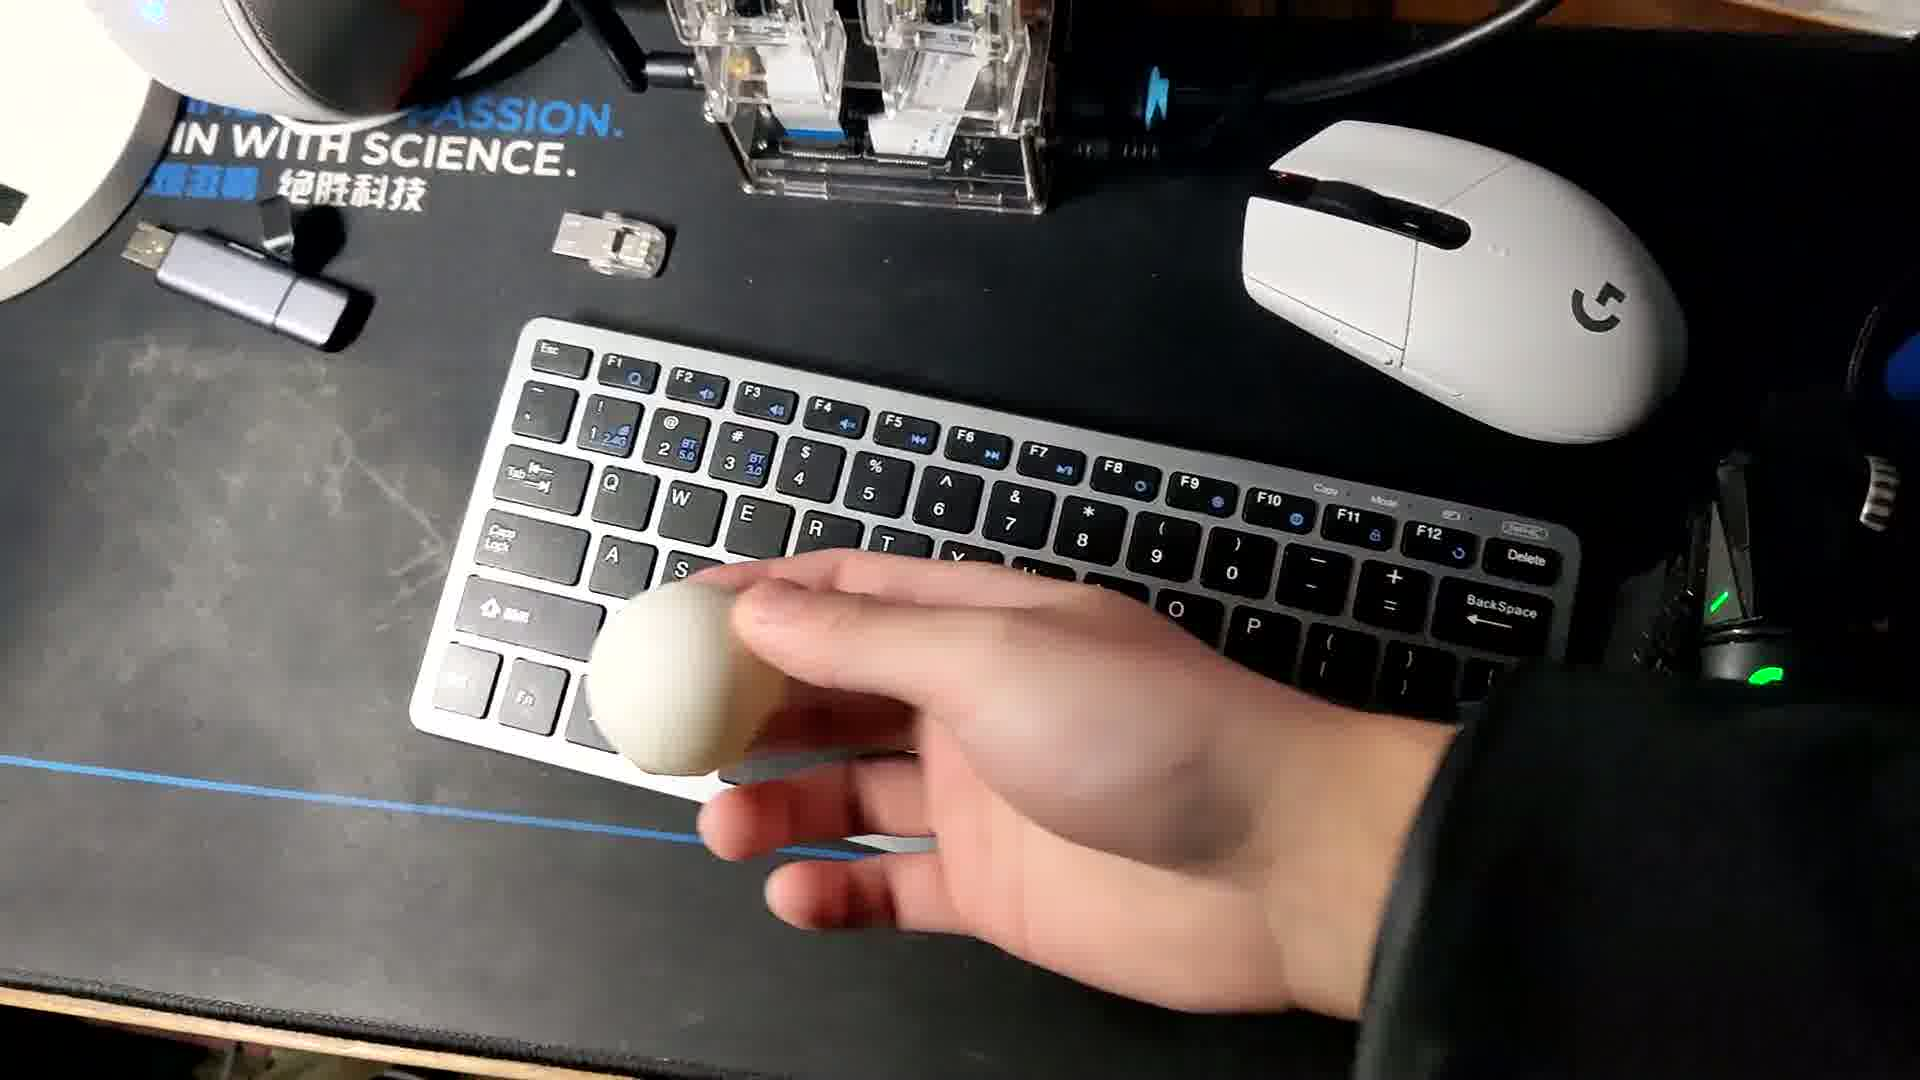Ball: (585, 582, 785, 773)
